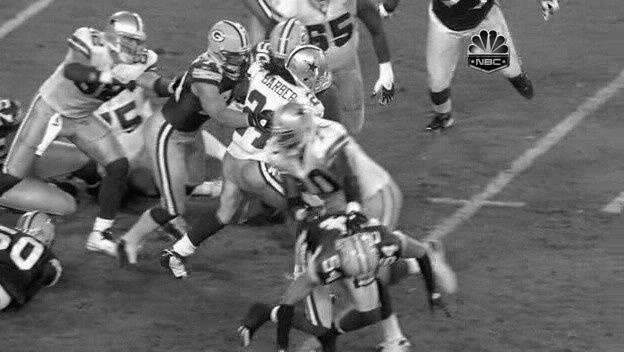person: (291, 47, 326, 92), (290, 47, 325, 92), (292, 47, 327, 92), (291, 46, 326, 91), (291, 48, 326, 93)
target_negative: (184, 153, 427, 314), (89, 222, 231, 292), (579, 84, 615, 341), (157, 213, 286, 265), (343, 298, 438, 335), (278, 221, 280, 226)
